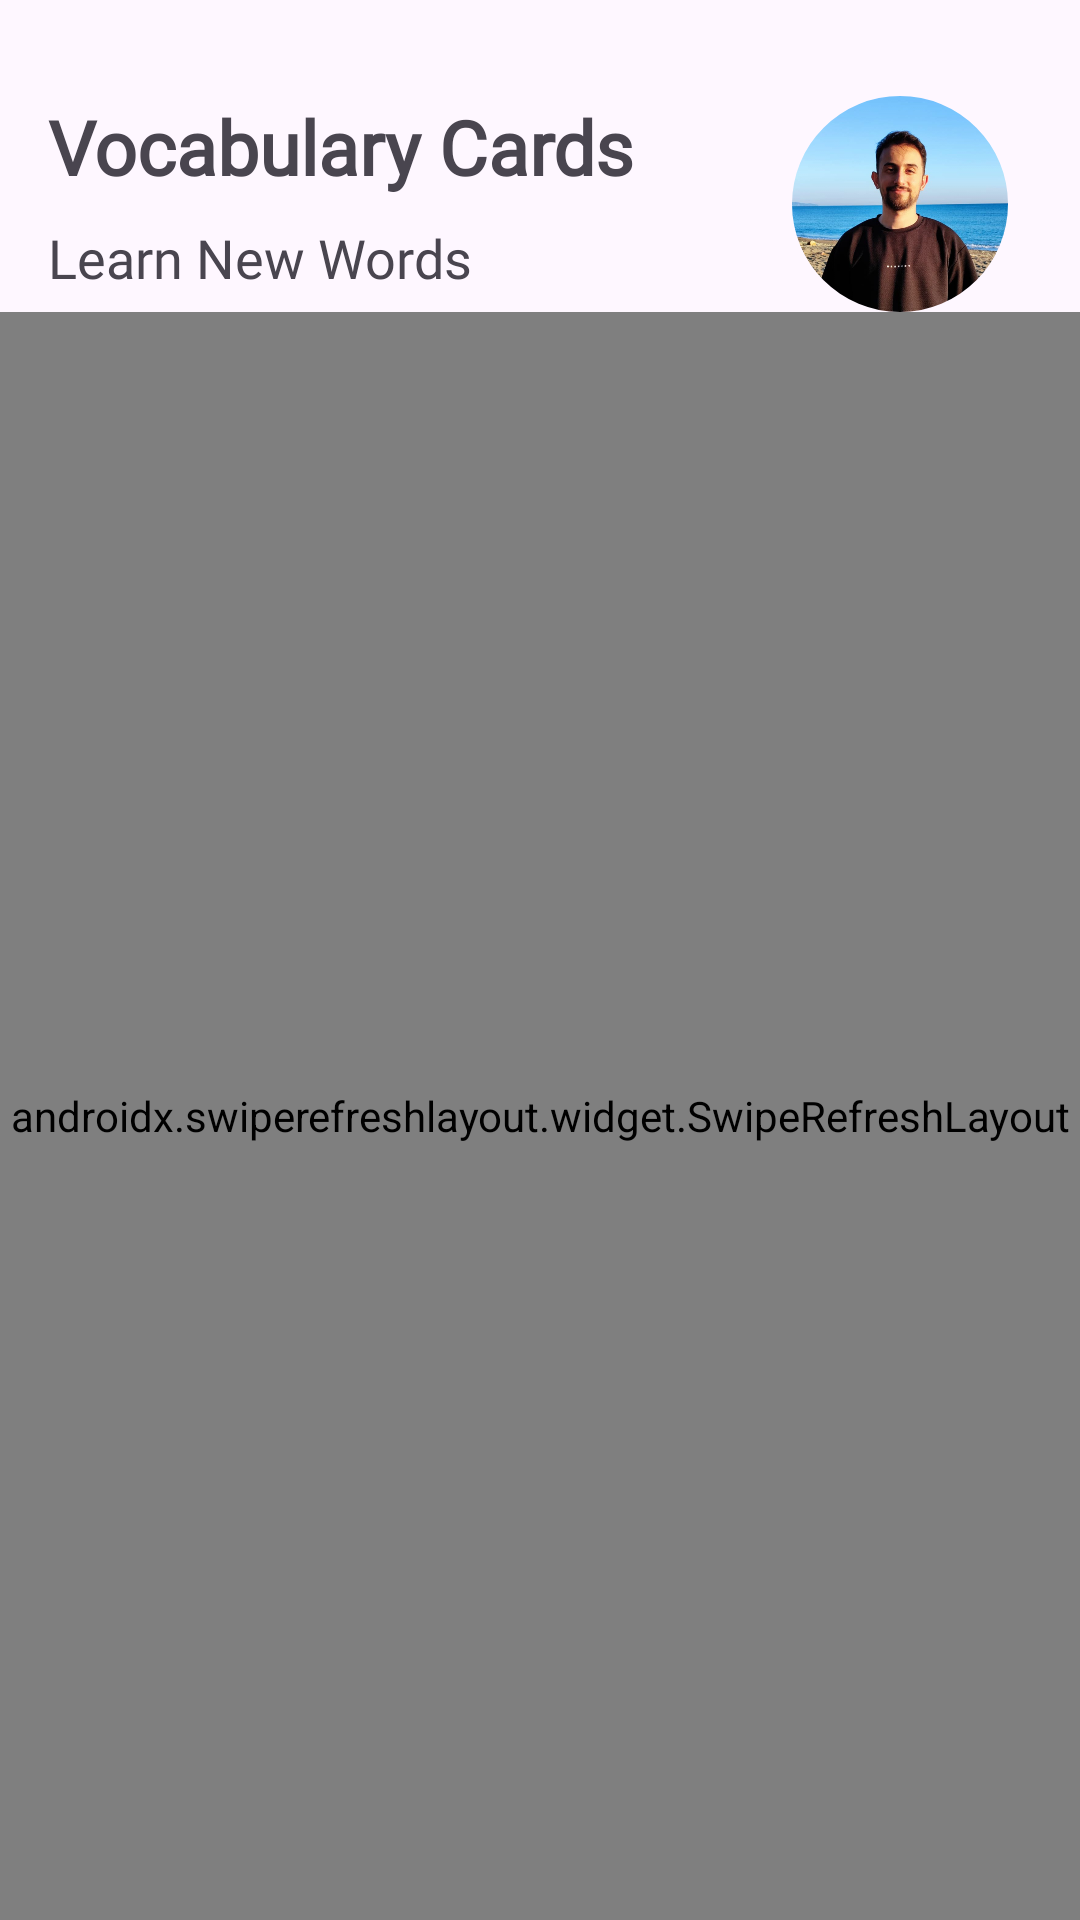

Icons on this 1080 × 1920 Android screen, each with the point to tap as (x=x, y=y):
user foto: (x=900, y=204)
